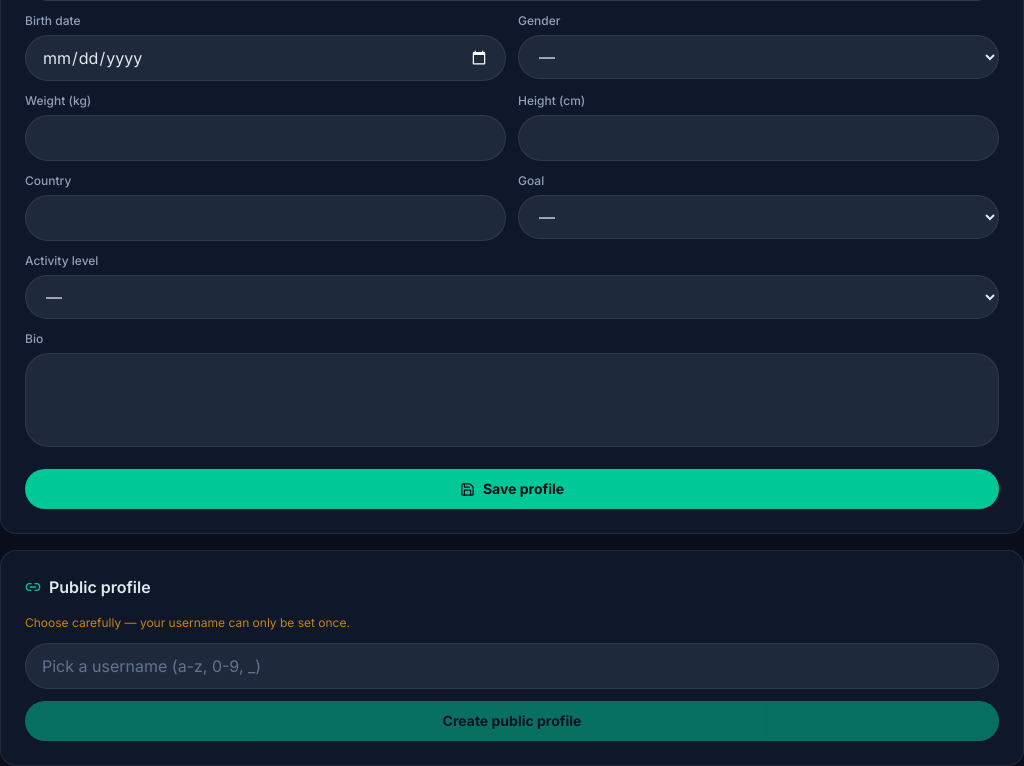
Test case: Profile - public username › handles unique-violation error from supabase
This screenshot has width=1024, height=766.
(page scrolled)
Type "taken" into the field with placeholder "Pick a username (a-z, 0-9, _)" at (512, 666), box [25,643,999,689]
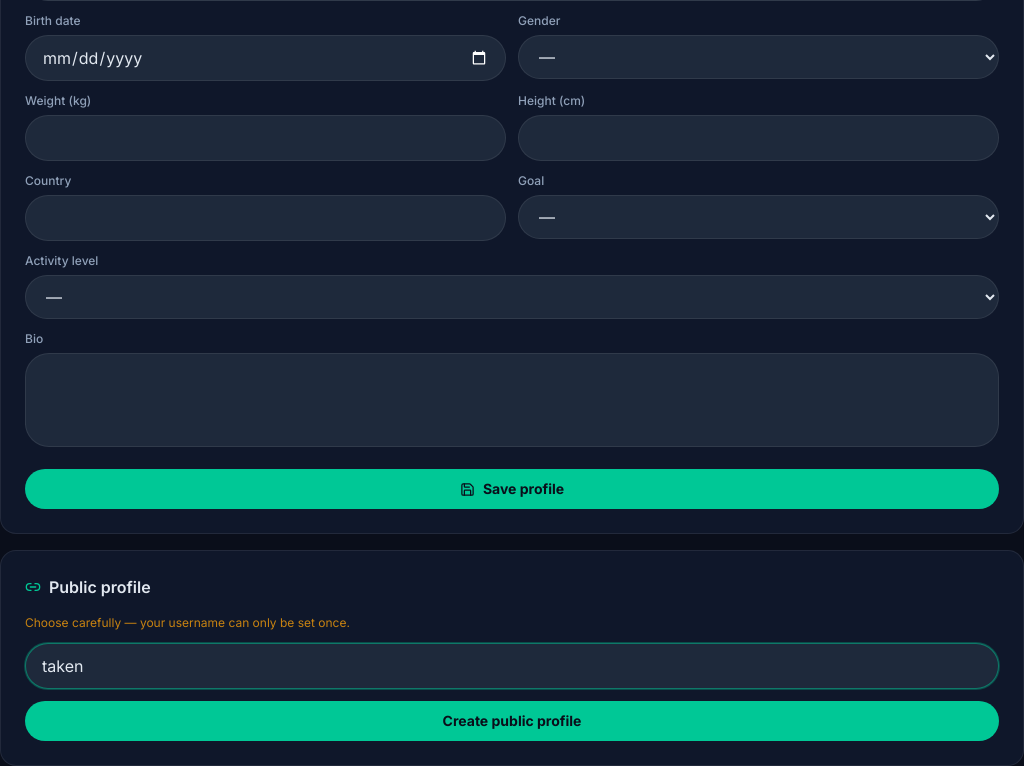
Click the button "Create public profile" at (512, 721), box [25,701,999,741]
(page scrolled)
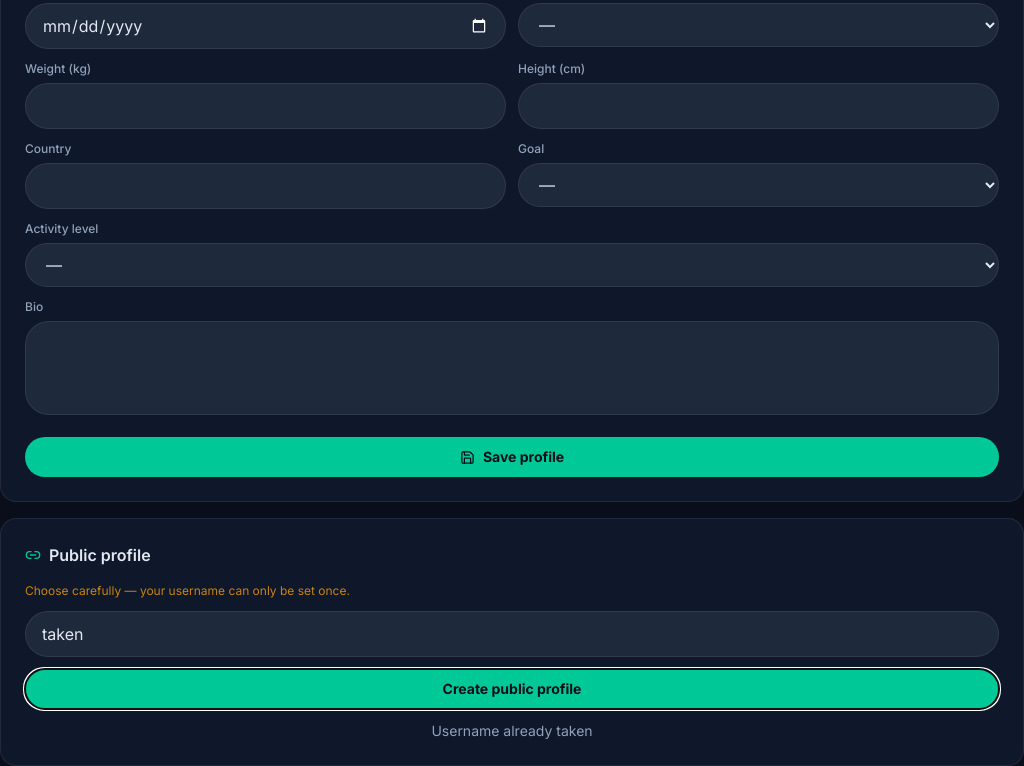
Result: the text "Username already taken" is shown at [431,722,593,739]
